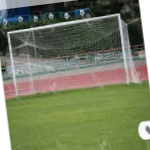goals: (6, 12, 140, 94)
